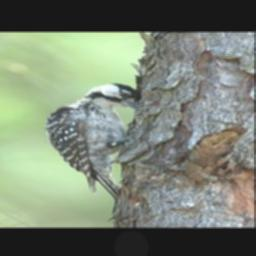Woodpecker: (42, 83, 142, 199)
